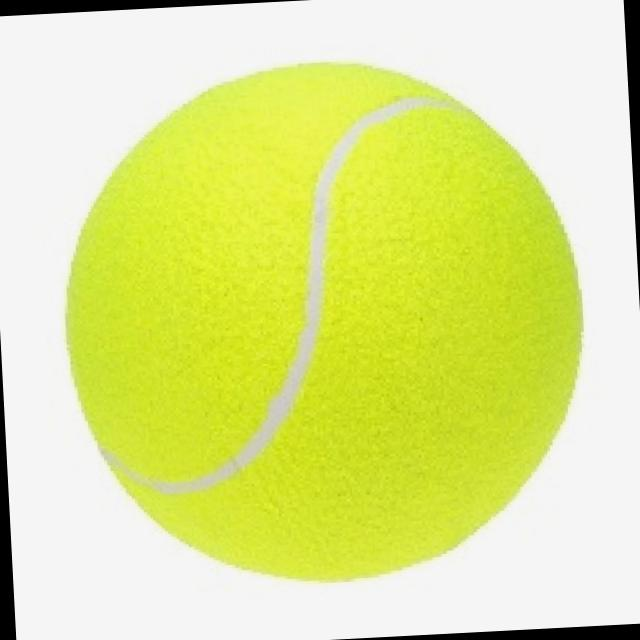Tennis Ball: (61, 65, 585, 583)
